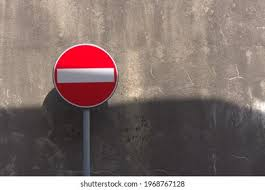No entry: (53, 45, 118, 109)
